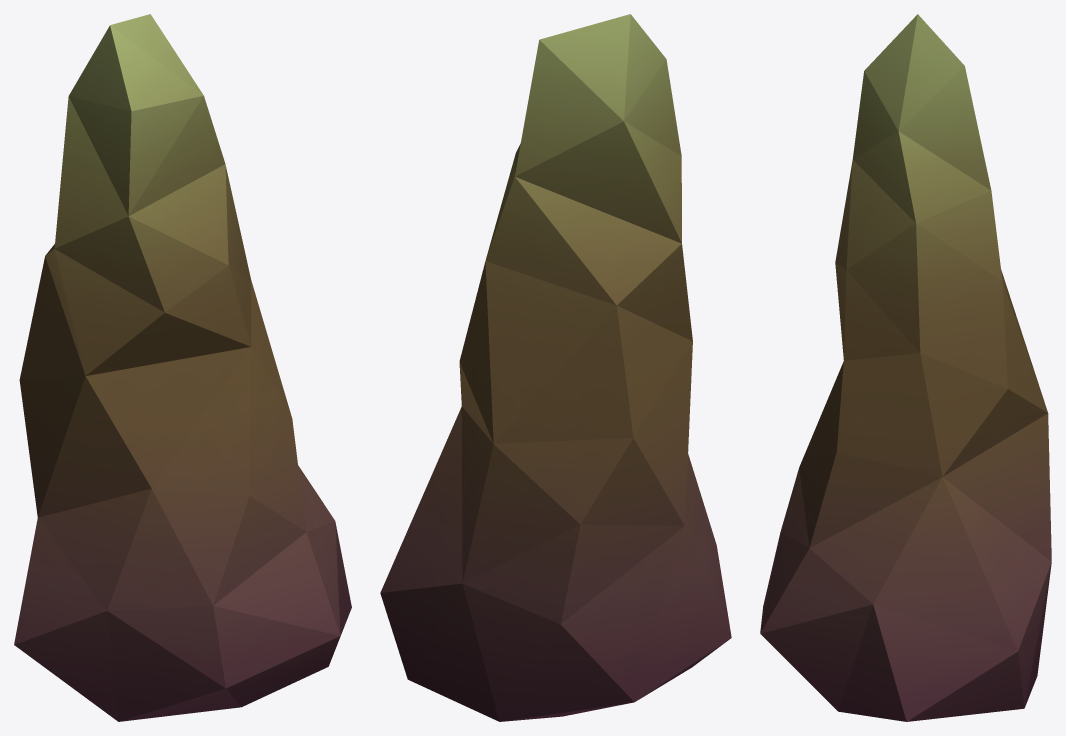
3 renders of one model, left to right at view 1: azimuth 30°, elevation 25°; view 2: azimuth 150°, elevation 25°; view 3: azimuth 270°, elevation 25°, orthographic. The views are drawn at different scales.
Parts seen in each view (by area): view 1: Base_03; view 2: Base_03; view 3: Base_03.
Boxes of the visible parts, x1,y1,x2,y2 form: Base_03: (14,14,351,721); Base_03: (380,14,731,721); Base_03: (760,14,1051,721).
Size of the model in its own units: 0.8662 by 1.74 by 0.6948.
